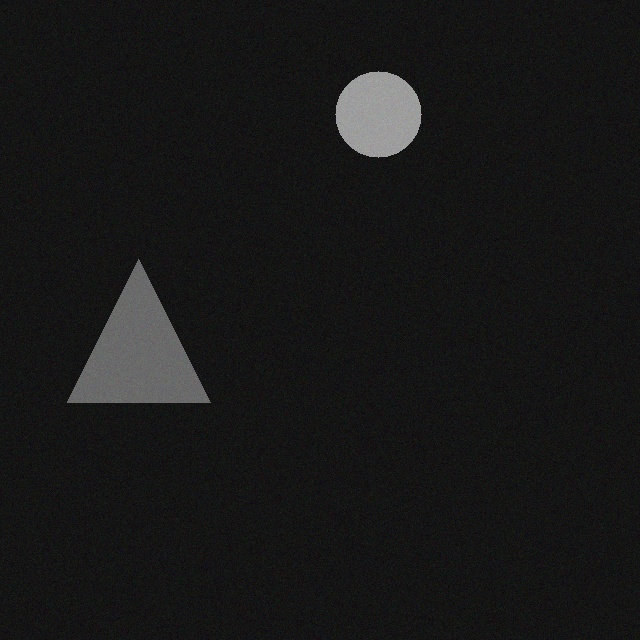circle: (333, 72, 419, 158)
triangle: (65, 260, 208, 403)
